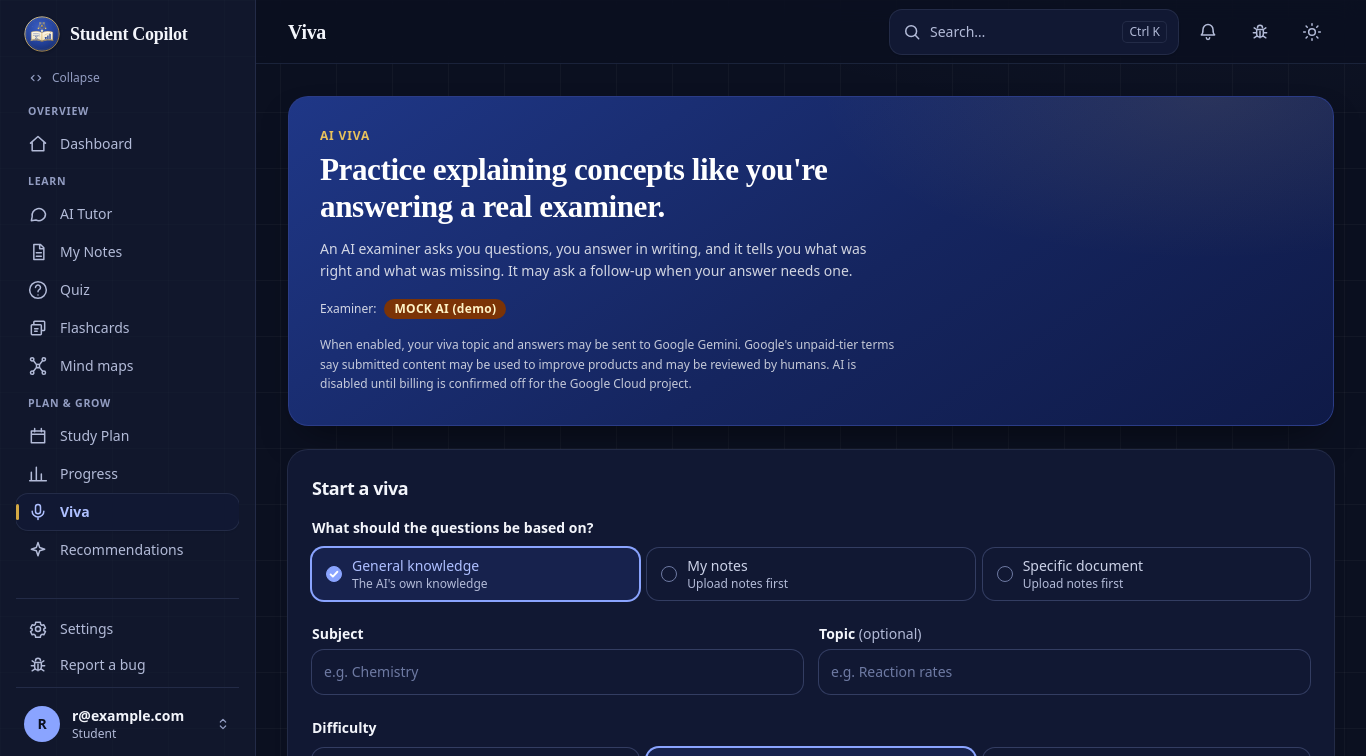
Test case: setup › labels an offline-demo examiner as MOCK AI (demo)
Expected: the text "your viva topic and answers may be sent to Google Gemini" is shown, [320, 336, 894, 392]
Type "Chemistry" into the field labelled "Subject" at {"x": 558, "y": 672}, box [312, 650, 803, 694]
(page scrolled)
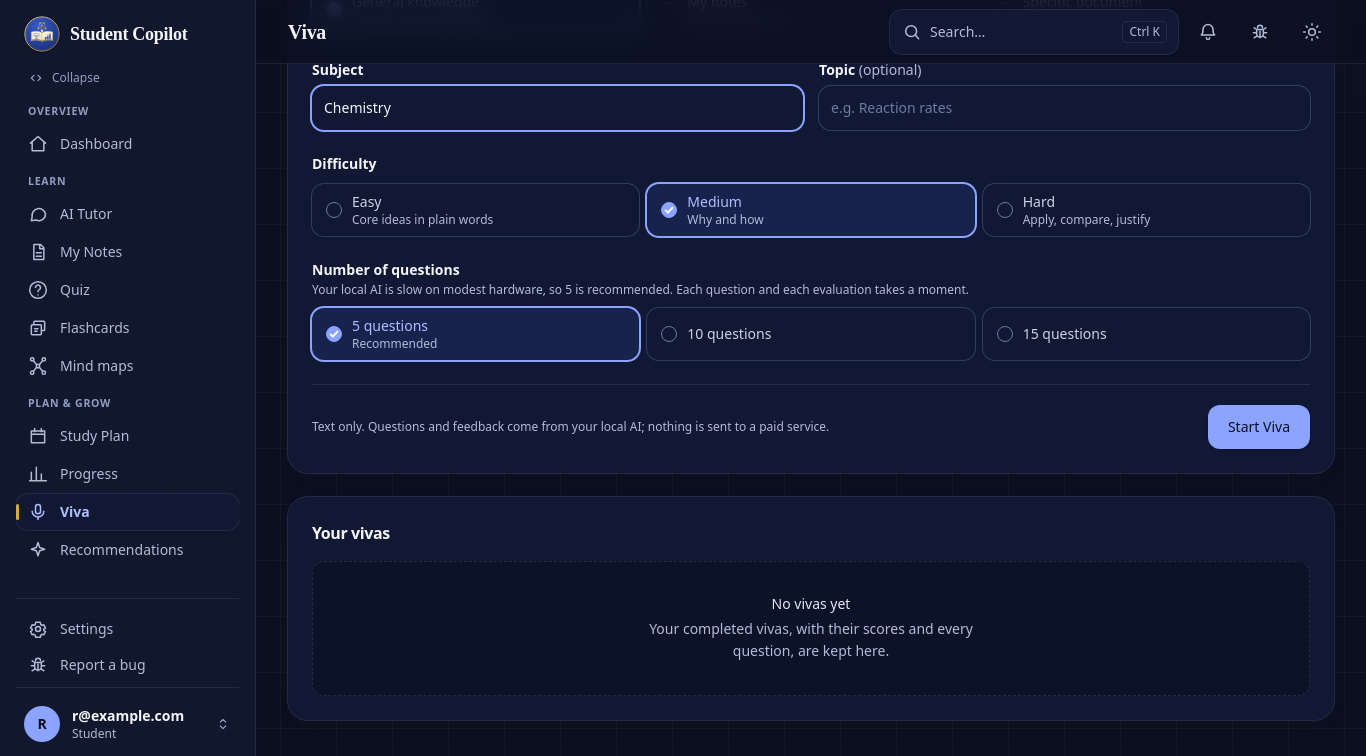
Click the button "Start Viva" at {"x": 1259, "y": 427}, box [1208, 405, 1310, 449]
(page scrolled)
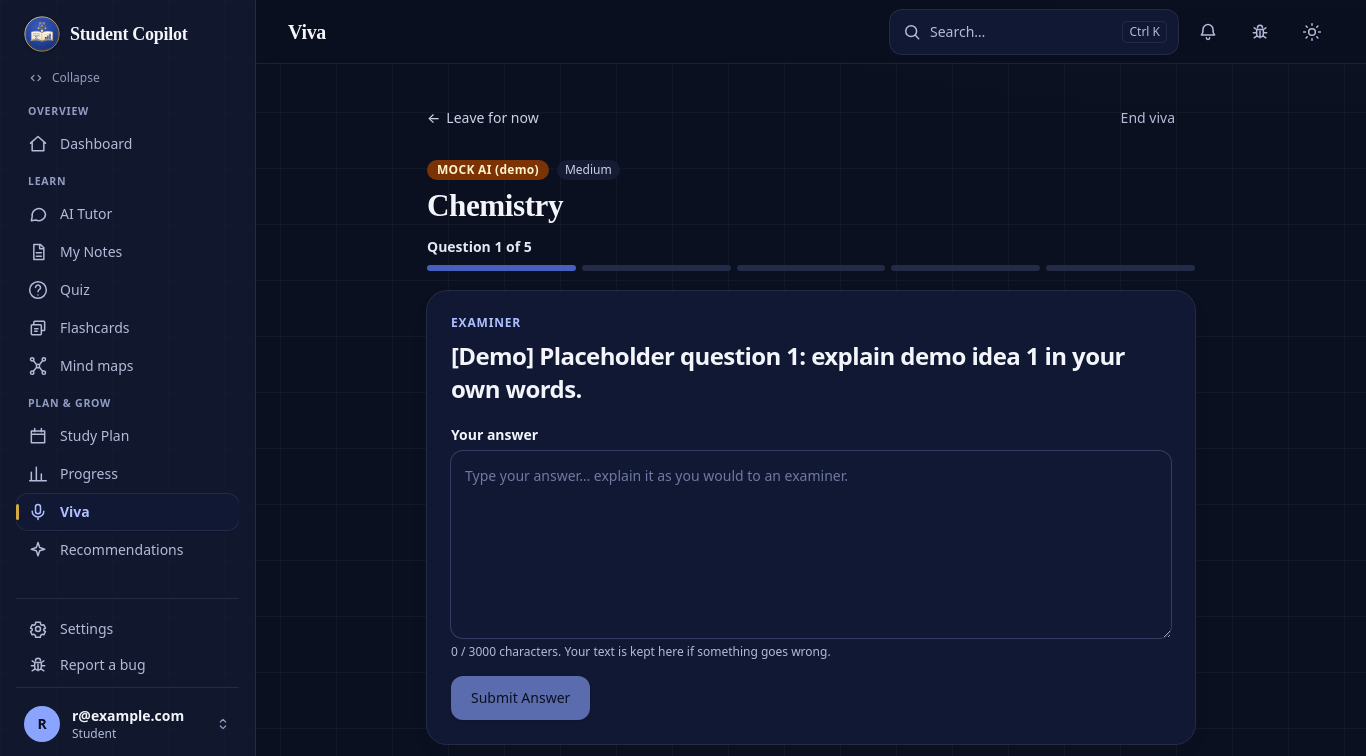
Expected: the text "MOCK AI (demo)" is shown, [427, 160, 549, 180]
Result: the text "Question 1 of 5" is shown at [427, 237, 532, 256]
